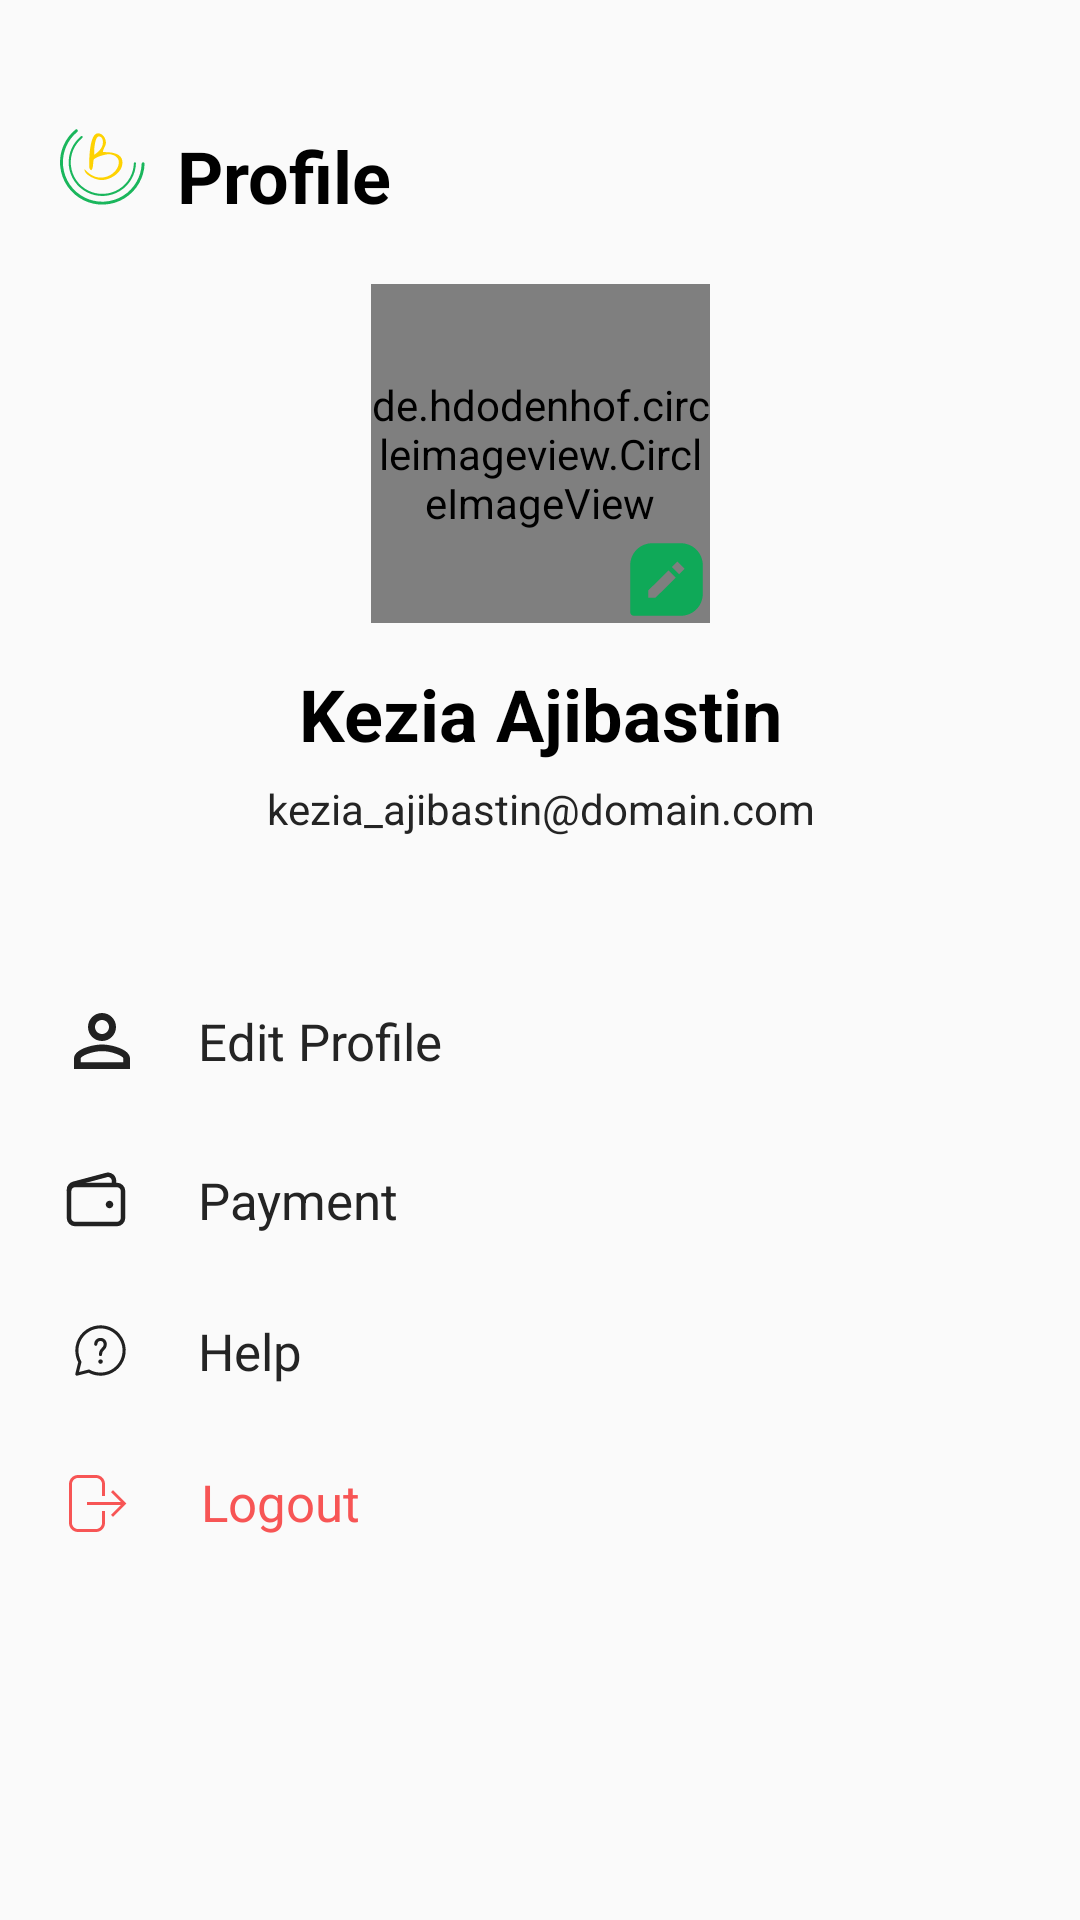

Icon bounding boxes for this 1080px×1920px phone screenshot, format (x1, y1, x2, y2):
edit: (630, 543, 703, 616)
